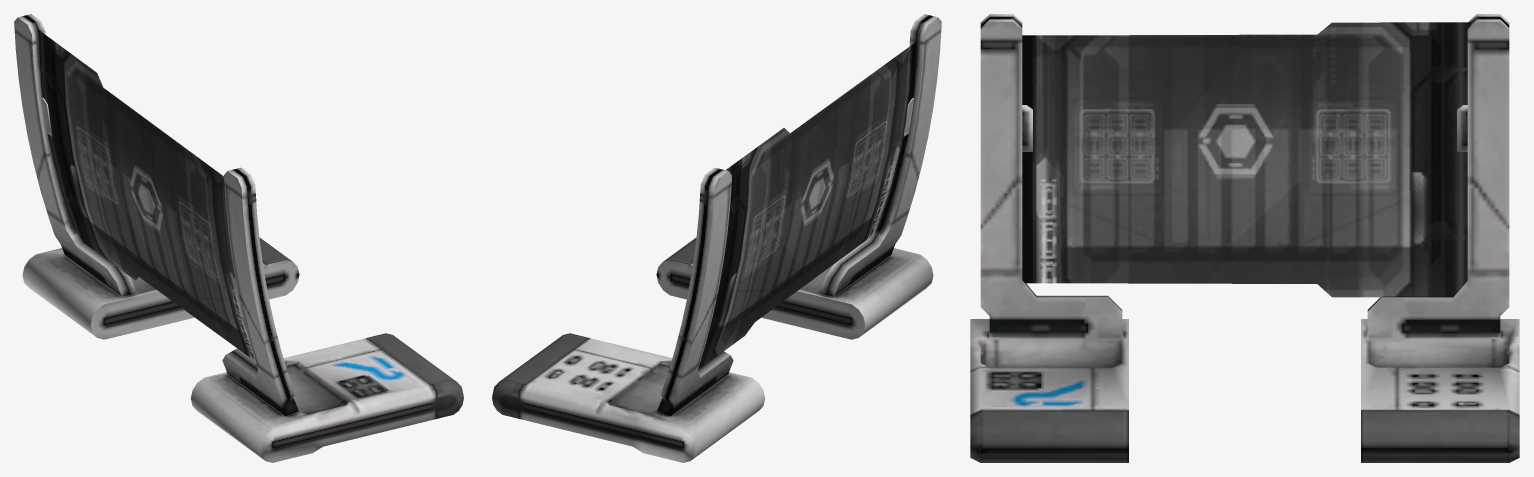
Rendered from Computer01.FBX.
3 renders of one model, left to right at view 1: azimuth 30°, elevation 25°; view 2: azimuth 150°, elevation 25°; view 3: azimuth 270°, elevation 25°, orthographic. The views are drawn at different scales.
Parts seen in each view (by area): view 1: Computer01; view 2: Computer01; view 3: Computer01.
Boxes of the visible parts, bbox=[...] form: Computer01: bbox=[14, 14, 463, 462]; Computer01: bbox=[492, 14, 941, 462]; Computer01: bbox=[970, 14, 1519, 462].
Size of the model in its own units: 0.2914 by 0.3578 by 0.5381.
